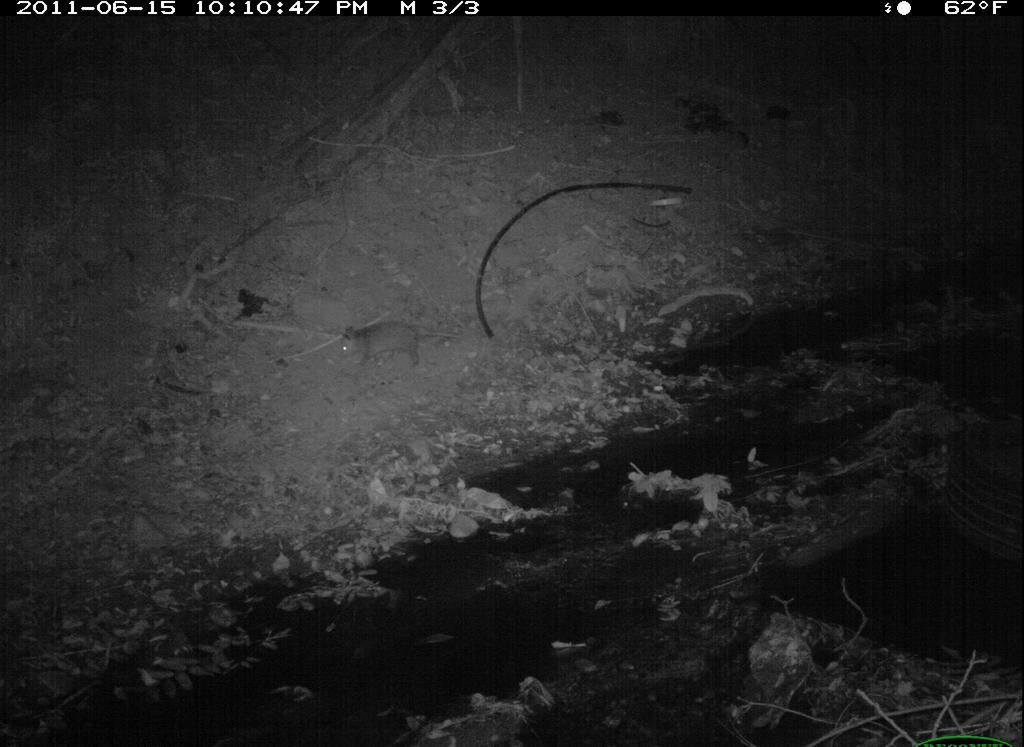opossum: (328, 317, 464, 376)
